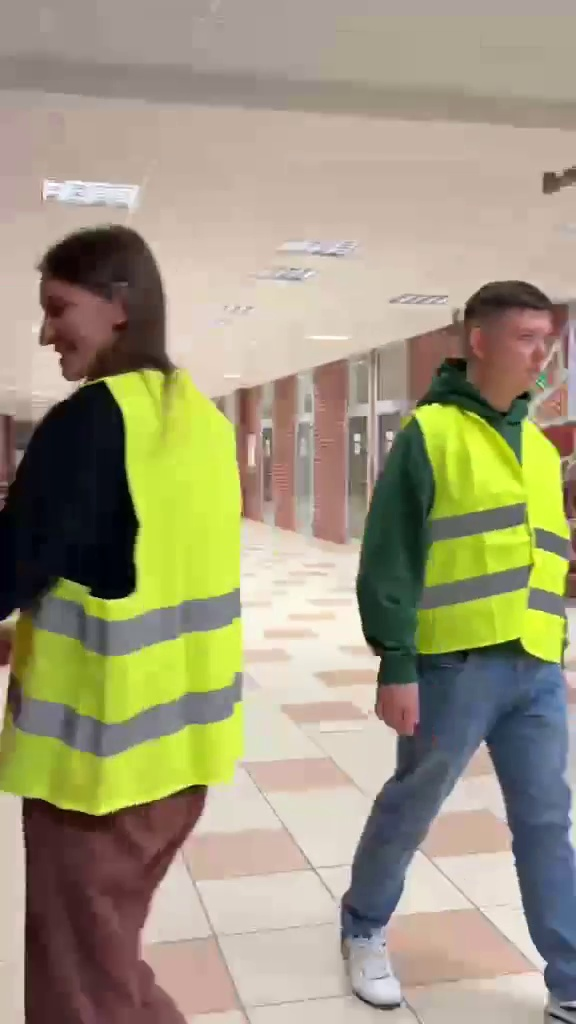vest: (0, 222, 244, 997), (356, 271, 574, 990)
